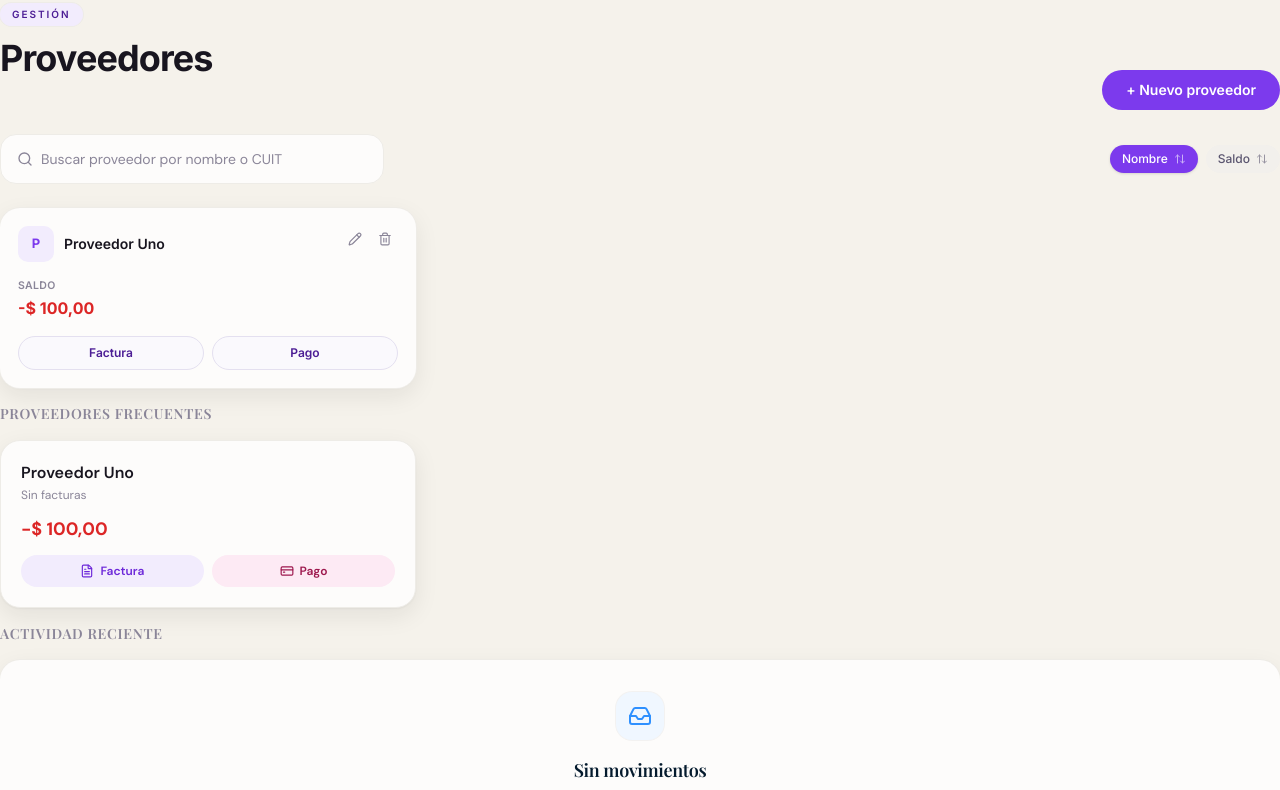
ProveedoresPage › shows "Nuevo proveedor" button that opens the create form modal
Expected: the text "Proveedor Uno" below "Gestión" is shown, top-left (64, 235), bottom-right (165, 252)
Click the button "+ Nuevo proveedor" at (1191, 90), box top-left (1102, 70), bottom-right (1279, 110)
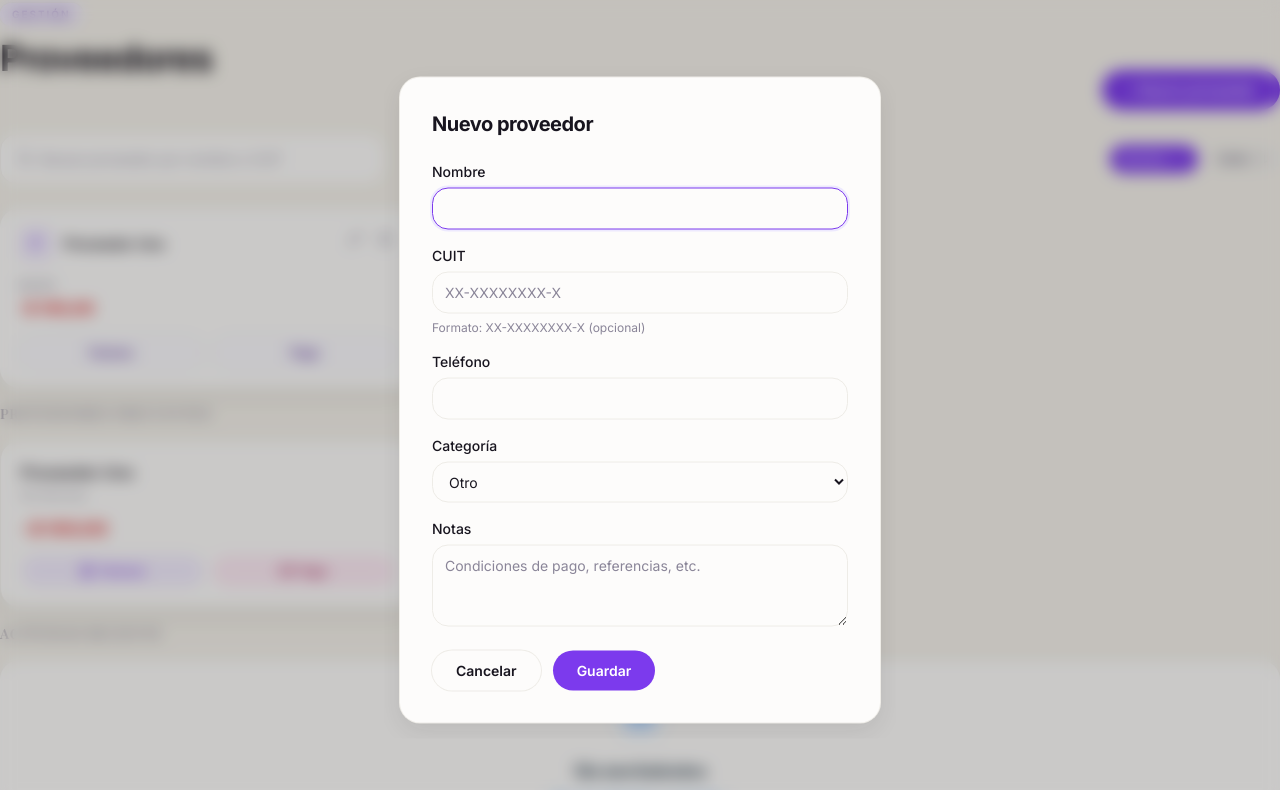
Expected: the field labelled "Nombre" is shown, top-left (432, 188), bottom-right (848, 230)
